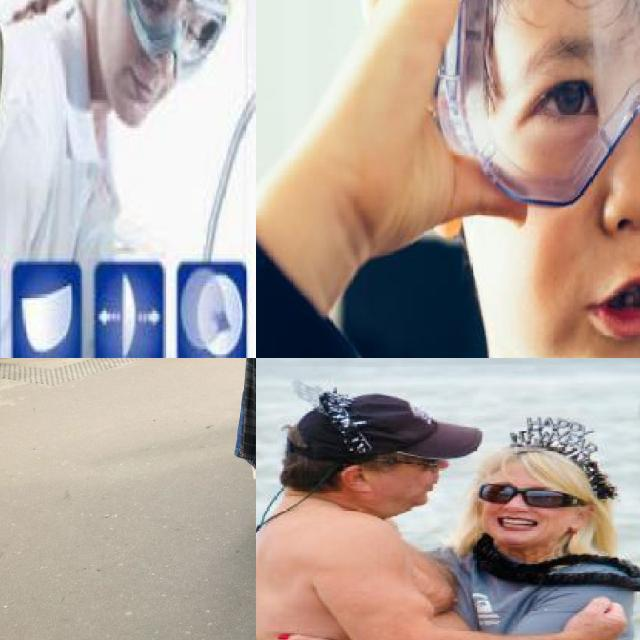face_nomask: (505, 55, 640, 357), (108, 0, 226, 116), (471, 476, 586, 542)
glasses: (442, 0, 640, 216), (106, 0, 231, 78), (464, 470, 602, 519)
hand_noglove: (335, 0, 538, 225), (550, 590, 638, 640), (259, 619, 364, 640)
